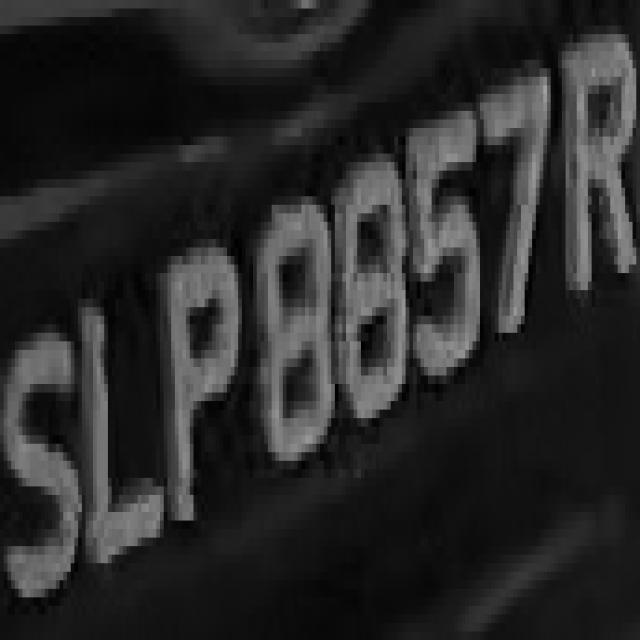5: (394, 94, 480, 418)
7: (472, 68, 554, 350)
8: (260, 171, 338, 469), (335, 162, 409, 427)
L: (70, 282, 164, 588)
P: (164, 230, 238, 538)
R: (562, 8, 632, 298)
S: (11, 308, 75, 614)
